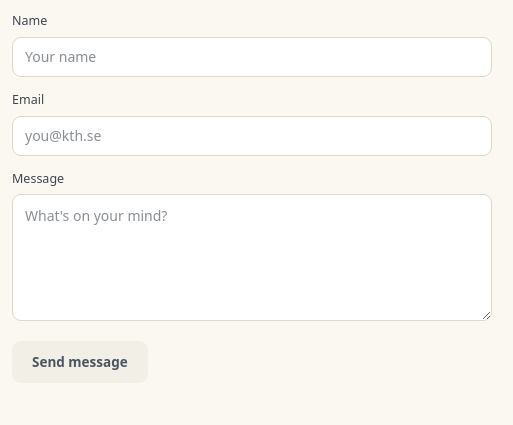
Test case: FeedbackForm › validation › refuses what the server would refuse, not merely what looks like an address
Step 1. Type "Elsa" into the field labelled "Name" → x=252, y=57, box [12,37,492,77]
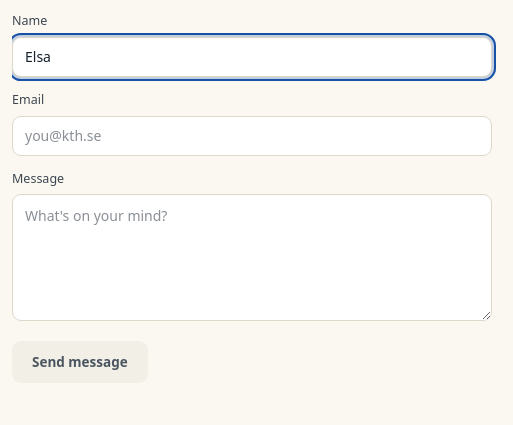
Step 2. Type "elsa@kth.s" into the field labelled "Email" → x=252, y=136, box [12,116,492,156]
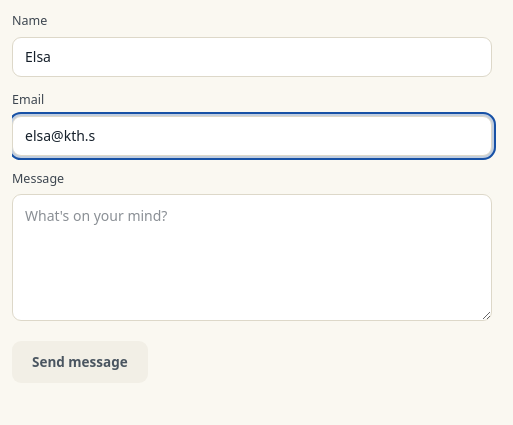
Step 3. Type "Hello" into the text box labelled "Message" → x=252, y=258, box [12,194,492,321]
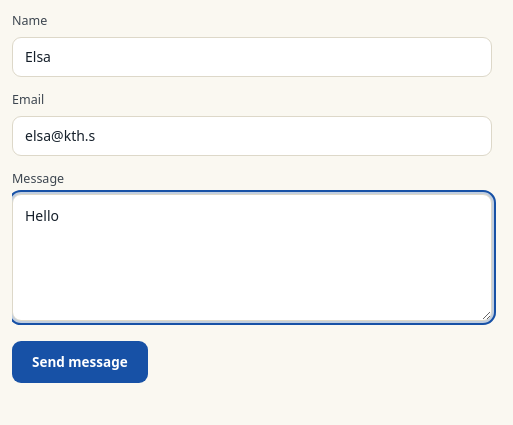
Step 4. Click the button "Send message" → x=80, y=362, box [12,341,148,383]
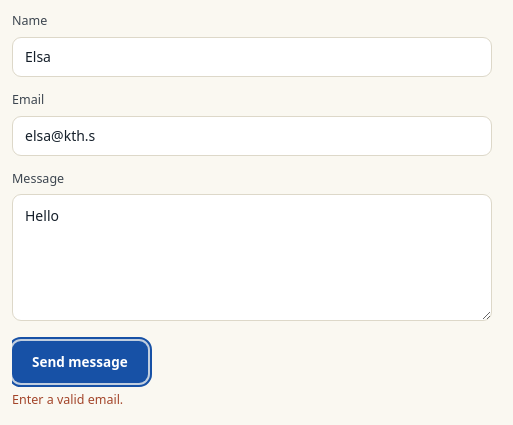
Result: the message reads "Enter a valid email." at [12,391,123,408]
